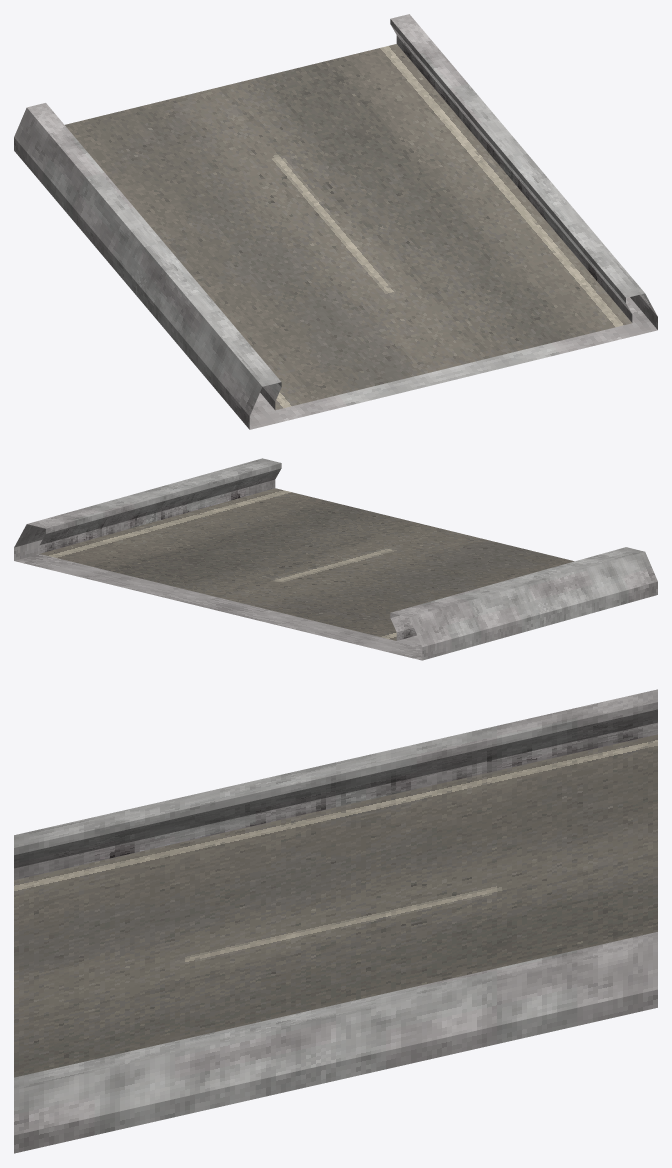
Rendered from straight1.glb.
3 views of the same model, one above another, from view 1: azimuth 30°, elevation 25°; view 2: azimuth 150°, elevation 25°; view 3: azimuth 270°, elevation 25° (orthographic). The views are drawn at different scales.
Visible parts, largest first — view 1: road-Straight-BiSlopeUp-BiSlopeUp-Up1-Center-Size1; view 2: road-Straight-BiSlopeUp-BiSlopeUp-Up1-Center-Size1; view 3: road-Straight-BiSlopeUp-BiSlopeUp-Up1-Center-Size1.
Part boxes in pixels (x1,y1,x2,y2): road-Straight-BiSlopeUp-BiSlopeUp-Up1-Center-Size1: [14, 14, 657, 429]; road-Straight-BiSlopeUp-BiSlopeUp-Up1-Center-Size1: [14, 458, 657, 660]; road-Straight-BiSlopeUp-BiSlopeUp-Up1-Center-Size1: [14, 689, 657, 1153].
Size of the model in its own units: 1 by 0.3438 by 1.
2 materials, 2 textured.
